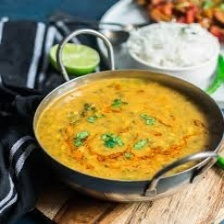dal: (32, 71, 224, 181)
